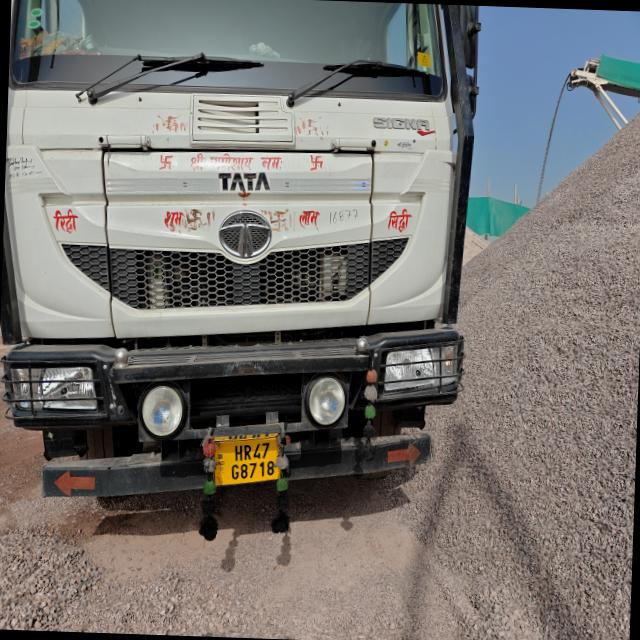license_plate: (215, 435, 279, 485)
